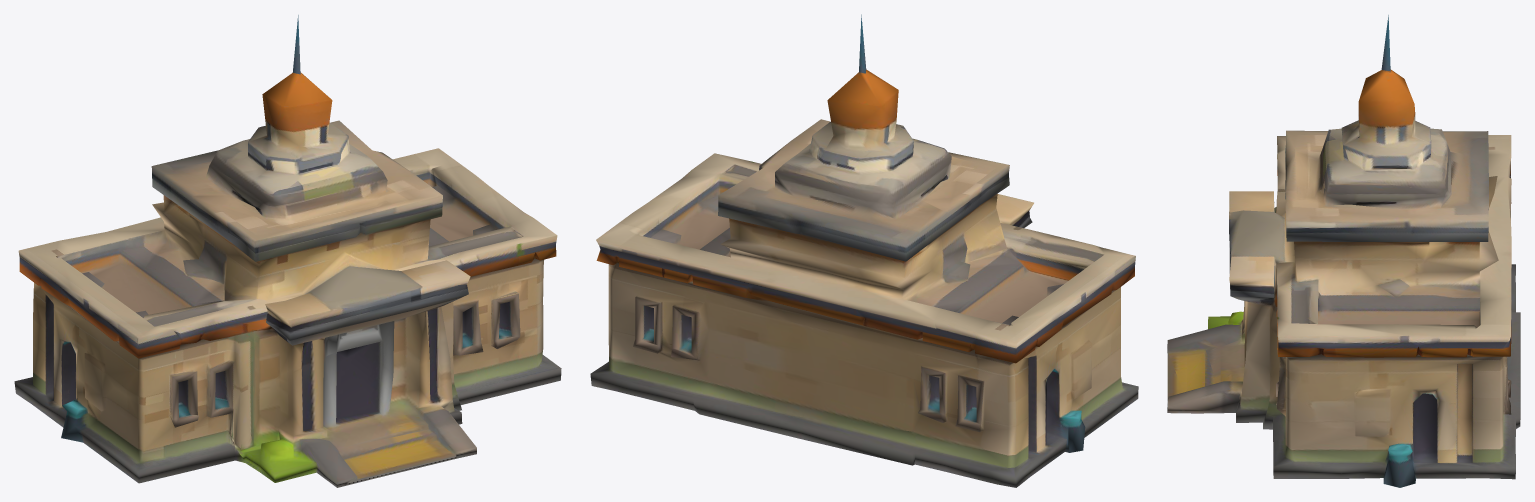
File: mairie.glb
3 renders of one model, left to right at view 1: azimuth 30°, elevation 25°; view 2: azimuth 150°, elevation 25°; view 3: azimuth 270°, elevation 25°, orthographic. The views are drawn at different scales.
Visible parts, largest first — view 1: tripo_node_1602cb9a-f0d0-4161-b38b-8480c47a7d82; view 2: tripo_node_1602cb9a-f0d0-4161-b38b-8480c47a7d82; view 3: tripo_node_1602cb9a-f0d0-4161-b38b-8480c47a7d82.
Part boxes in pixels (x1,y1,x2,y2): tripo_node_1602cb9a-f0d0-4161-b38b-8480c47a7d82: [14, 15, 561, 487]; tripo_node_1602cb9a-f0d0-4161-b38b-8480c47a7d82: [590, 14, 1138, 487]; tripo_node_1602cb9a-f0d0-4161-b38b-8480c47a7d82: [1167, 15, 1520, 487].
Bounding box in the file's own units: 0.9833 × 0.779 × 0.6779.
Materials: 1 (1 with a texture image).
